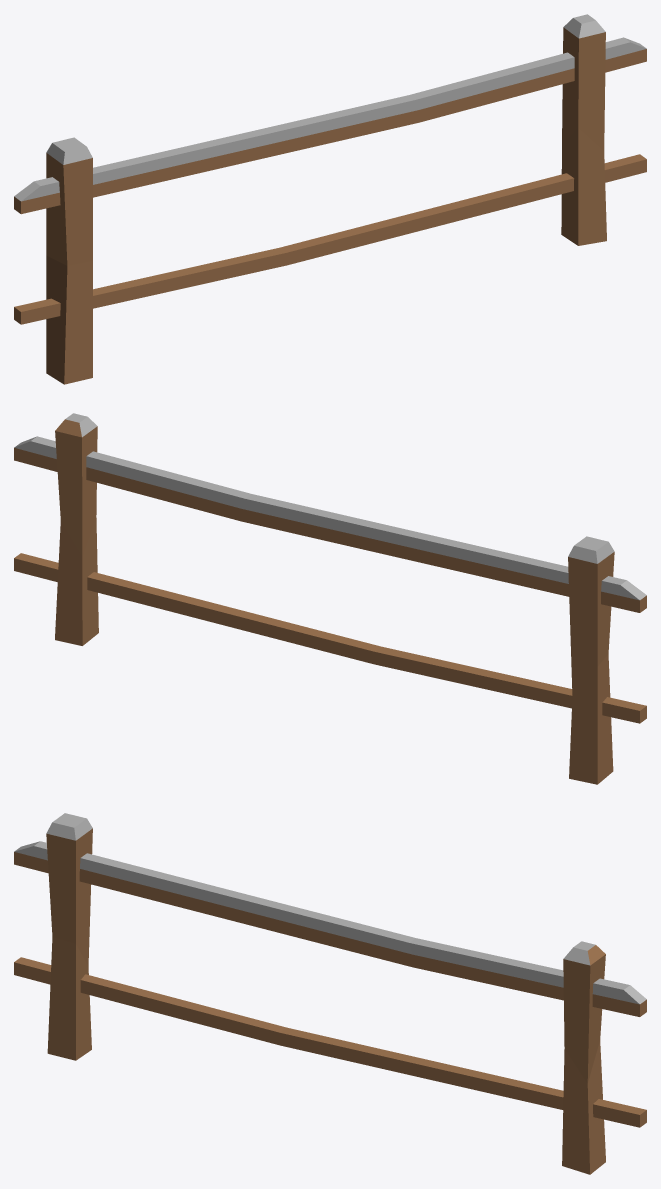
The model's file is Fence_4 Winter.fbx.
3 renders of one model, top to bottom at view 1: azimuth 30°, elevation 25°; view 2: azimuth 150°, elevation 25°; view 3: azimuth 330°, elevation 25°, orthographic.
Parts seen in each view (by area): view 1: Fence4Winter_mesh; view 2: Fence4Winter_mesh; view 3: Fence4Winter_mesh.
Part boxes in pixels (x1,y1,x2,y2): Fence4Winter_mesh: (14, 14, 646, 384); Fence4Winter_mesh: (14, 413, 646, 784); Fence4Winter_mesh: (14, 813, 646, 1174).
Size of the model in its own units: 316 by 112 by 14.93.
